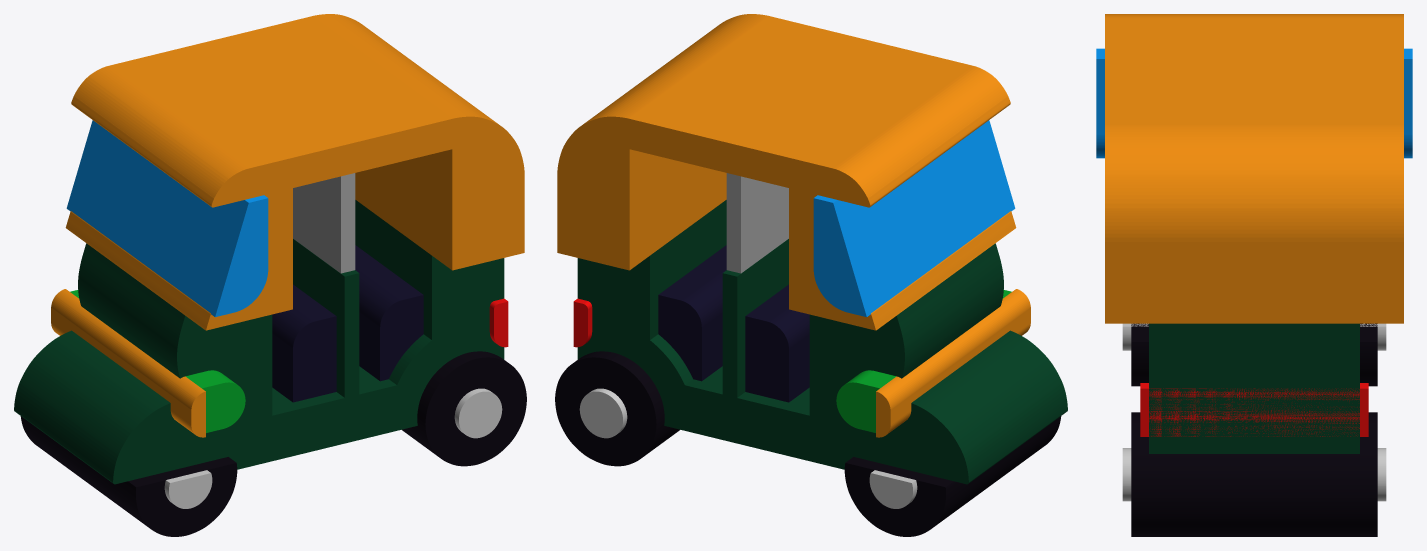
3 renders of one model, left to right at view 1: azimuth 30°, elevation 25°; view 2: azimuth 150°, elevation 25°; view 3: azimuth 270°, elevation 25°, orthographic. The views are drawn at different scales.
Parts seen in each view (by area): view 1: U+1F6FA_layer07_obj00, U+1F6FA_layer02_obj00, U+1F6FA_layer08_obj00, U+1F6FA_layer04_obj00, U+1F6FA_layer00_obj00, U+1F6FA_layer01_obj00, U+1F6FA_layer05_obj00, U+1F6FA_layer06_obj00, U+1F6FA_layer03_obj00; view 2: U+1F6FA_layer07_obj00, U+1F6FA_layer02_obj00, U+1F6FA_layer08_obj00, U+1F6FA_layer04_obj00, U+1F6FA_layer00_obj00, U+1F6FA_layer01_obj00, U+1F6FA_layer05_obj00, U+1F6FA_layer06_obj00, U+1F6FA_layer03_obj00; view 3: U+1F6FA_layer07_obj00, U+1F6FA_layer02_obj00, U+1F6FA_layer04_obj00, U+1F6FA_layer03_obj00, U+1F6FA_layer08_obj00, U+1F6FA_layer05_obj00.
Boxes of the visible parts, <box> form: U+1F6FA_layer07_obj00: <box>51,14,524,437</box>; U+1F6FA_layer02_obj00: <box>14,200,504,484</box>; U+1F6FA_layer08_obj00: <box>66,120,268,317</box>; U+1F6FA_layer04_obj00: <box>20,351,526,536</box>; U+1F6FA_layer00_obj00: <box>272,245,423,402</box>; U+1F6FA_layer01_obj00: <box>293,173,355,273</box>; U+1F6FA_layer05_obj00: <box>164,388,502,508</box>; U+1F6FA_layer06_obj00: <box>70,290,245,432</box>; U+1F6FA_layer03_obj00: <box>489,298,508,347</box>; U+1F6FA_layer07_obj00: <box>557,14,1030,437</box>; U+1F6FA_layer02_obj00: <box>577,200,1067,484</box>; U+1F6FA_layer08_obj00: <box>813,120,1015,317</box>; U+1F6FA_layer04_obj00: <box>555,351,1061,536</box>; U+1F6FA_layer00_obj00: <box>658,245,809,402</box>; U+1F6FA_layer01_obj00: <box>726,173,788,273</box>; U+1F6FA_layer05_obj00: <box>579,388,917,508</box>; U+1F6FA_layer06_obj00: <box>836,290,1011,432</box>; U+1F6FA_layer03_obj00: <box>573,298,592,347</box>; U+1F6FA_layer07_obj00: <box>1105,14,1403,323</box>; U+1F6FA_layer02_obj00: <box>1149,323,1359,453</box>; U+1F6FA_layer04_obj00: <box>1131,323,1377,536</box>; U+1F6FA_layer03_obj00: <box>1140,383,1368,436</box>; U+1F6FA_layer08_obj00: <box>1096,48,1412,158</box>; U+1F6FA_layer05_obj00: <box>1122,323,1386,501</box>.
Bounding box in the file's own units: 0.5676 × 0.4867 × 0.36.
